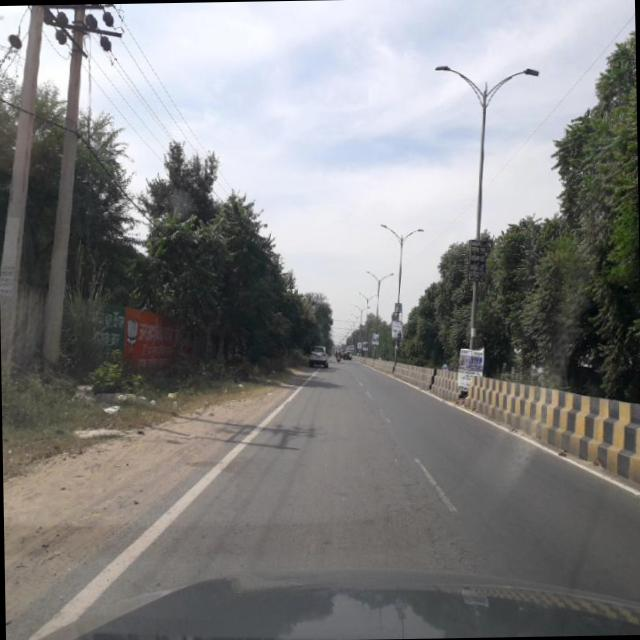crack: (388, 463, 471, 571)
